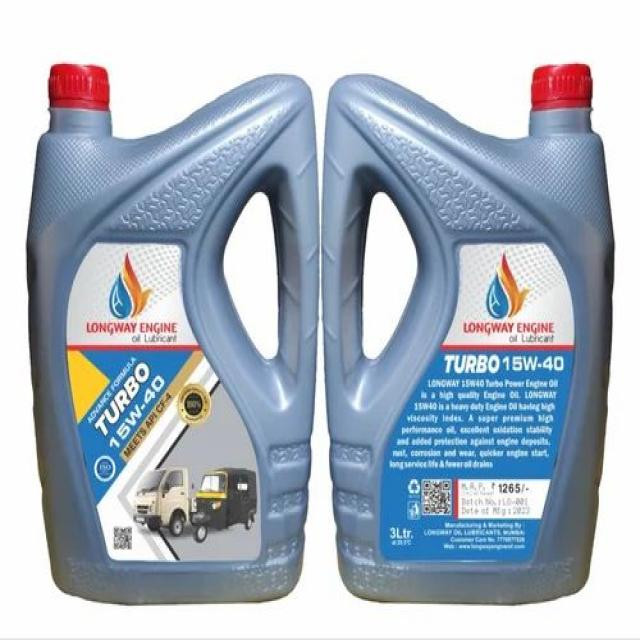motor_oil: (30, 62, 326, 607), (330, 61, 612, 608)
